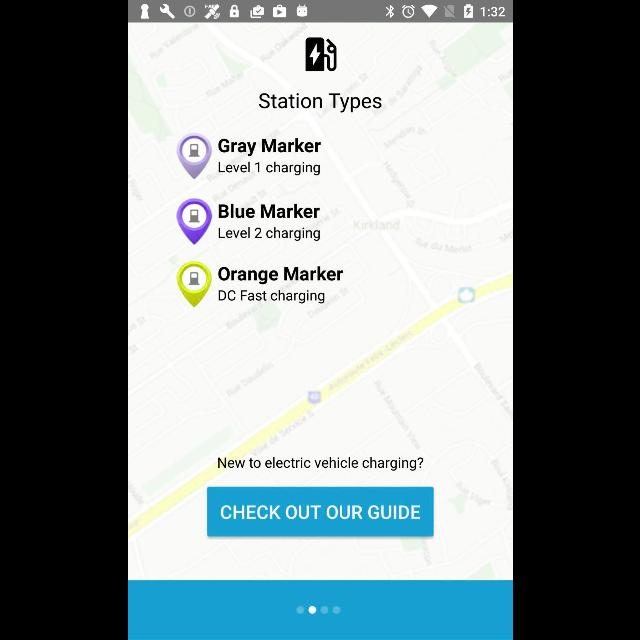image: (176, 132, 212, 180), (175, 260, 211, 308), (176, 198, 212, 246), (304, 38, 336, 72)
pageindicator: (296, 606, 340, 614)
text: (218, 457, 422, 471), (258, 94, 382, 112), (218, 266, 342, 284), (218, 138, 320, 156), (217, 226, 319, 242), (216, 290, 324, 304), (217, 161, 319, 175), (217, 204, 319, 218)
textbutton: (207, 487, 433, 537)
uppertaskbar: (128, 1, 512, 23)
